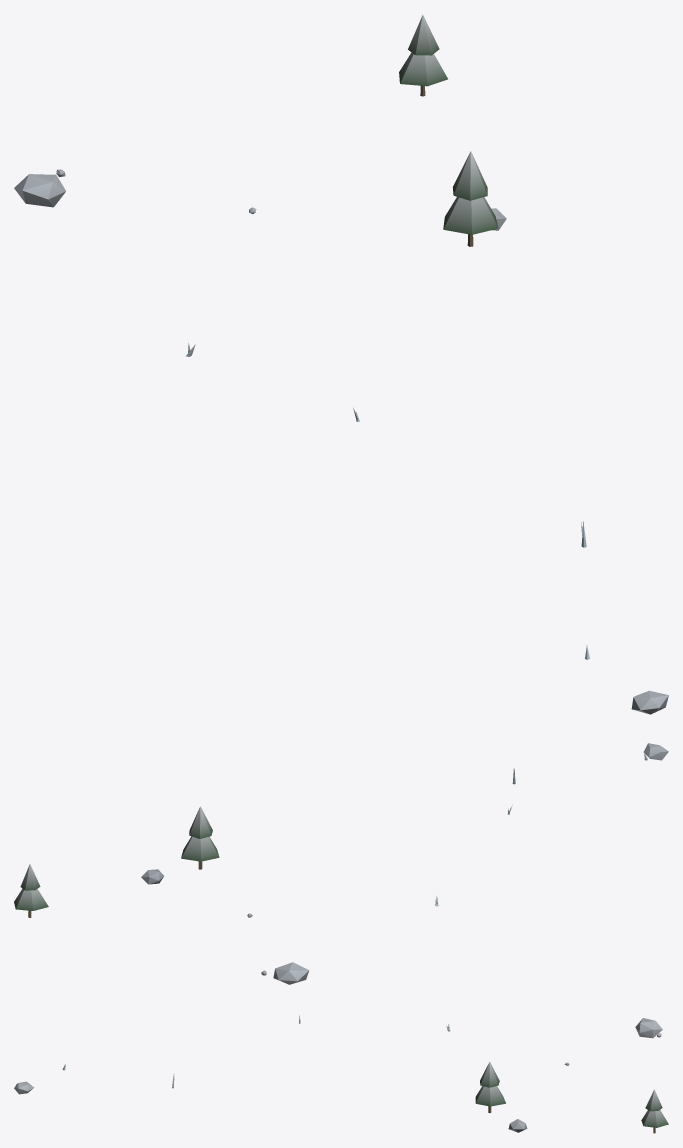
Rendered from frost_land_scatter_c15_13_lod1.glb.
The picture shows the model from 3 angles, top to bottom: view 1: azimuth 30°, elevation 25°; view 2: azimuth 150°, elevation 25°; view 3: azimuth 270°, elevation 25°; orthographic projection. The views are drawn at different scales.
Parts seen in each view (by area): view 1: frost_land_scatter_c15_13_lod1; view 2: frost_land_scatter_c15_13_lod1; view 3: frost_land_scatter_c15_13_lod1.
Boxes of the visible parts, x1=… form: frost_land_scatter_c15_13_lod1: x1=14, y1=14, x2=668, y2=714; frost_land_scatter_c15_13_lod1: x1=14, y1=743, x2=668, y2=984; frost_land_scatter_c15_13_lod1: x1=14, y1=1014, x2=668, y2=1133.
Bounding box in the file's own units: 55.35 × 21.42 × 130.
